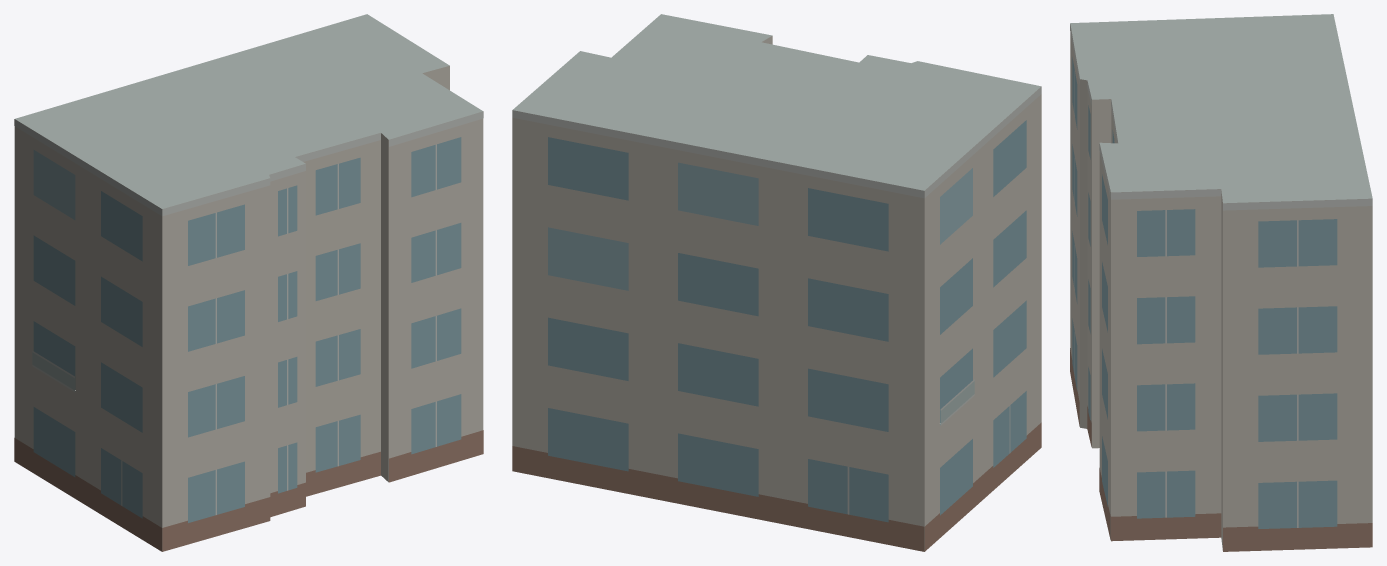
The model's file is survey-upis-32531835.glb.
The picture shows the model from 3 angles, left to right: view 1: azimuth 30°, elevation 25°; view 2: azimuth 150°, elevation 25°; view 3: azimuth 270°, elevation 25°; orthographic projection. The views are drawn at different scales.
Visible parts, largest first — view 1: survey-upis-32531835.tmp; view 2: survey-upis-32531835.tmp; view 3: survey-upis-32531835.tmp.
Boxes of the visible parts, x1,y1,x2,y2 form: survey-upis-32531835.tmp: (14,14,483,551); survey-upis-32531835.tmp: (512,14,1041,551); survey-upis-32531835.tmp: (1070,14,1372,551).
Size of the model in its own units: 13.51 by 11.6 by 9.13.
